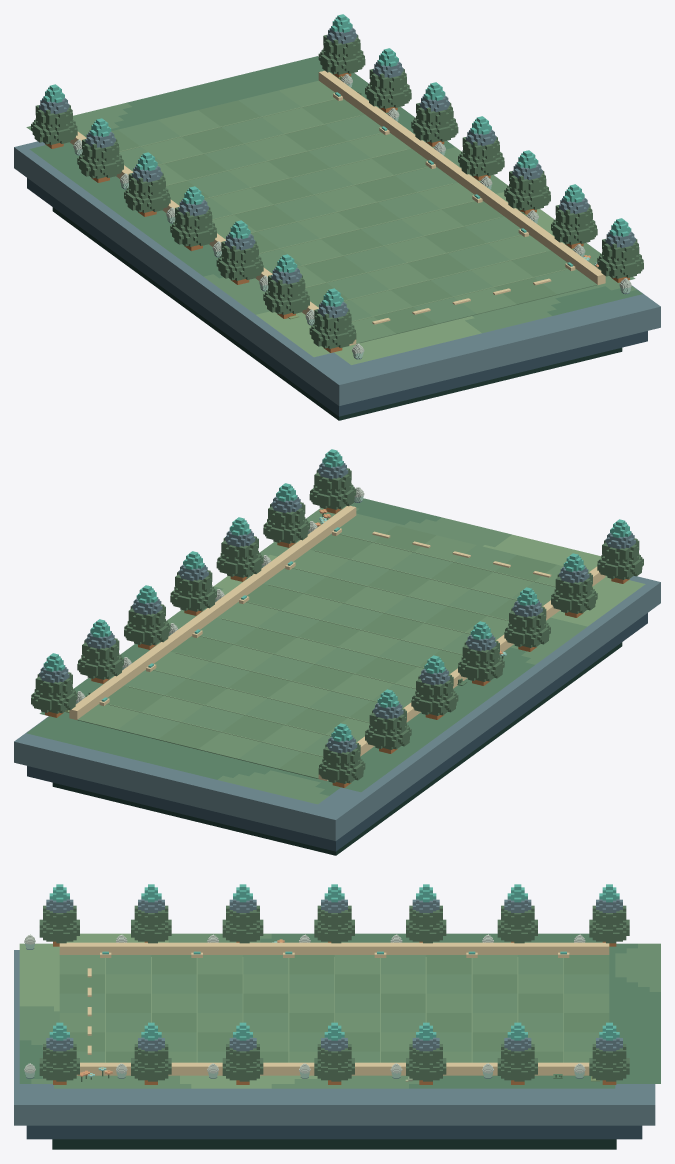
The model's file is chain_purified.glb.
3 renders of one model, top to bottom at view 1: azimuth 30°, elevation 25°; view 2: azimuth 150°, elevation 25°; view 3: azimuth 270°, elevation 25°, orthographic.
Visible parts, largest first — view 1: chain_ground, chain_occluders; view 2: chain_ground, chain_occluders; view 3: chain_ground, chain_occluders.
Boxes of the visible parts, x1,y1,x2,y2 form: chain_ground: (14,56,660,420); chain_occluders: (31,14,643,352); chain_ground: (14,487,660,855); chain_occluders: (31,449,643,787); chain_ground: (14,933,660,1149); chain_occluders: (39,884,629,1084).
Size of the model in its own units: 16.28 by 6.1 by 28.25.
